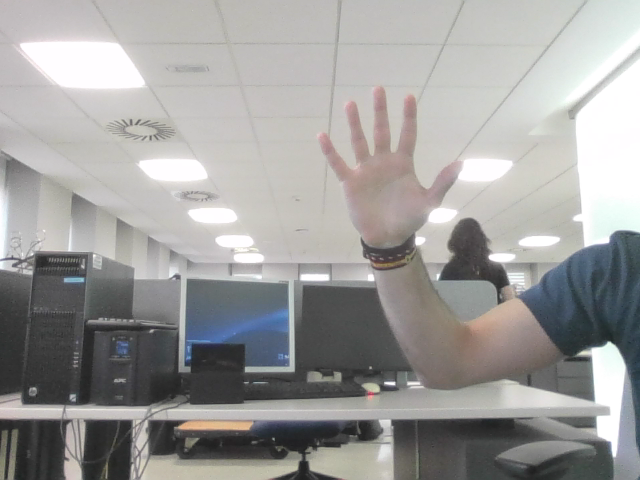Mano Abierta: (326, 99, 449, 216)
